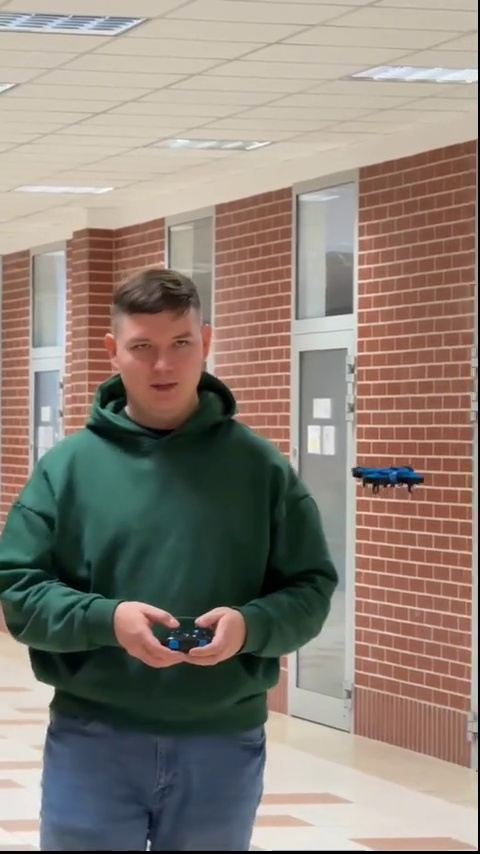drone: (347, 462, 425, 493)
no vest: (8, 279, 349, 814)
